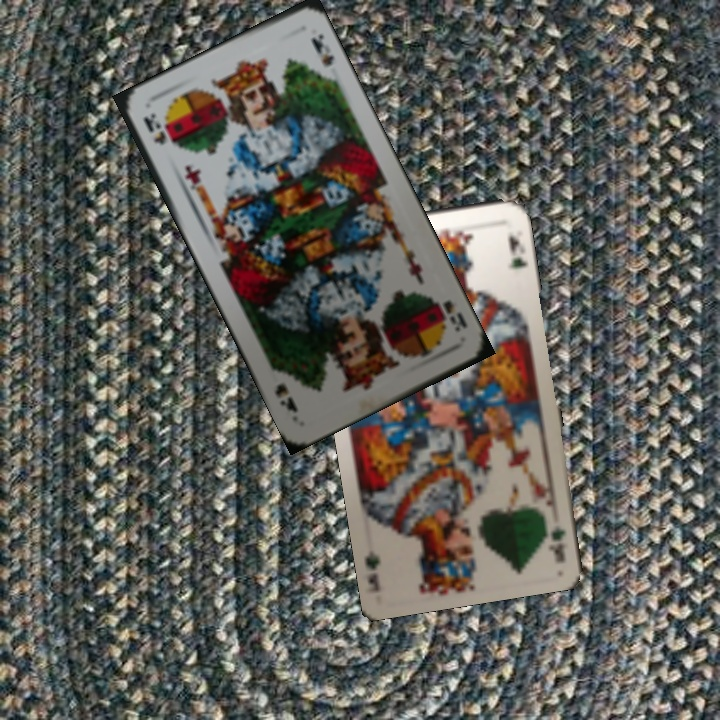GK: (547, 521, 569, 565)
SK: (427, 290, 470, 335), (139, 109, 169, 148)
